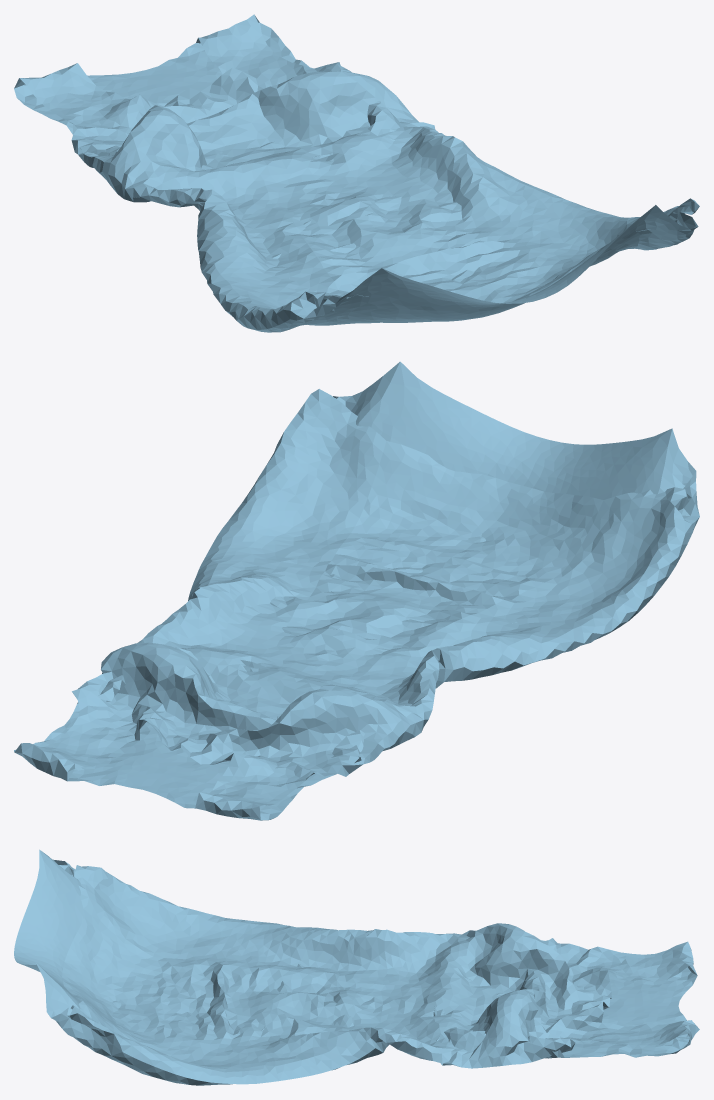
The model's file is frame_02.glb.
3 views of the same model, one above another, from view 1: azimuth 30°, elevation 25°; view 2: azimuth 150°, elevation 25°; view 3: azimuth 270°, elevation 25° (orthographic). The views are drawn at different scales.
Visible parts, largest first — view 1: frame_02.obj; view 2: frame_02.obj; view 3: frame_02.obj.
Boxes of the visible parts, x1=… form: frame_02.obj: x1=14, y1=14, x2=699, y2=332; frame_02.obj: x1=14, y1=361, x2=699, y2=820; frame_02.obj: x1=14, y1=849, x2=699, y2=1085.
Bounding box in the file's own units: 1.06 × 0.3036 × 1.85.
